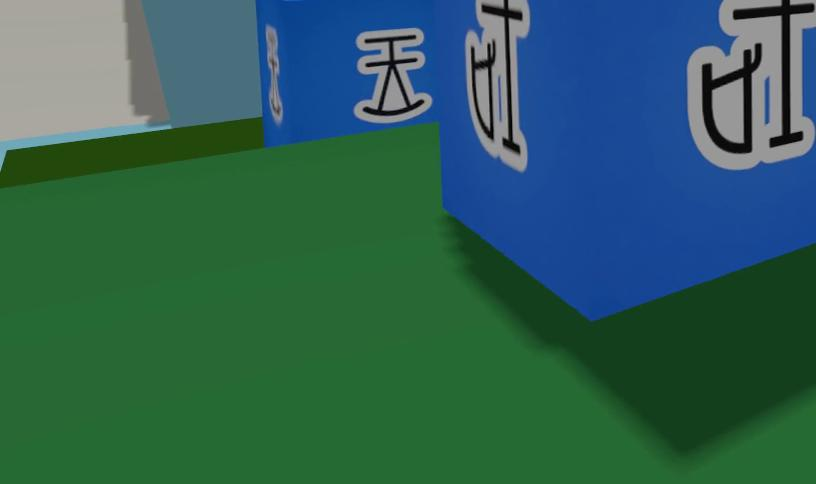KFS_REAL: (426, 0, 816, 317), (256, 0, 439, 146), (688, 0, 816, 169), (464, 0, 528, 171), (354, 28, 431, 123)
